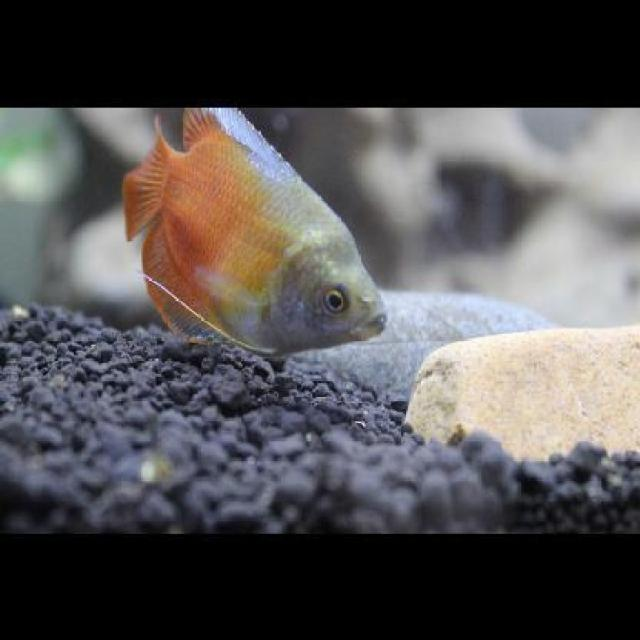Gourami: (121, 106, 390, 359)
